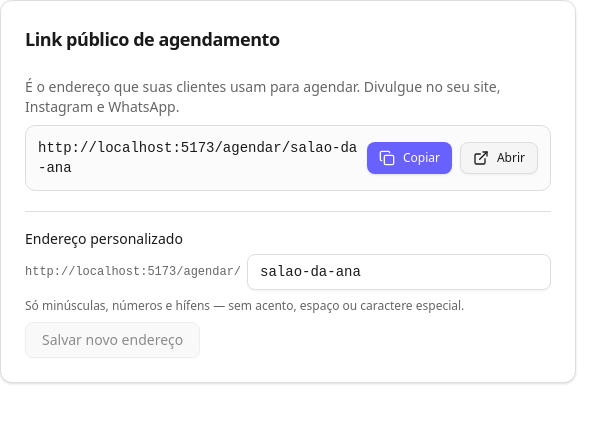
Test: PublicLinkCard › slug inválido bloqueia o salvar
Expected: the text "http://localhost:5173/agendar/salao-da-ana" is shown, [38,138,359,178]
Replace the text in the field labelled "Endereço personalizado" with "Salão Novo": {"x": 399, "y": 272} [247,254,551,290]
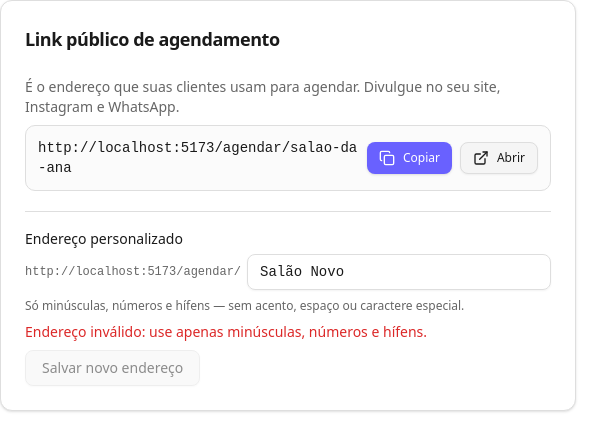
Expected: the button "Salvar novo endereço" is disabled, [25,350,200,386]
Expected: the text "Endereço inválido: use apenas minúsculas, números e hífens." is shown, [25,322,427,341]
